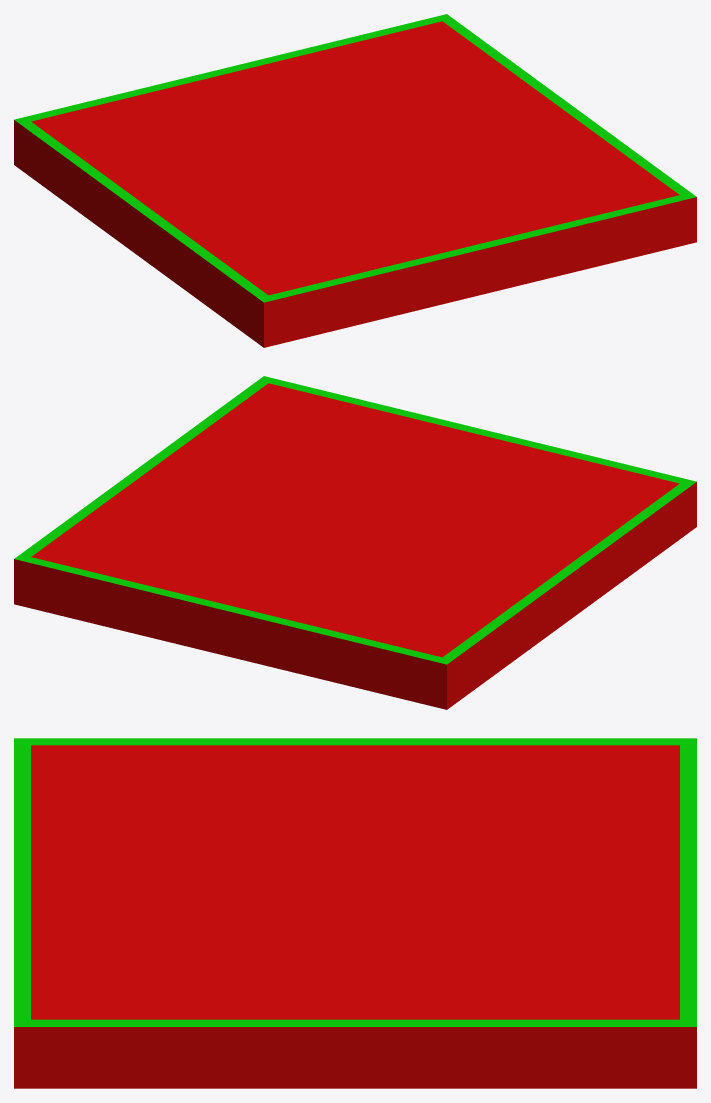
The picture shows the model from 3 angles, top to bottom: view 1: azimuth 30°, elevation 25°; view 2: azimuth 150°, elevation 25°; view 3: azimuth 270°, elevation 25°; orthographic projection. The views are drawn at different scales.
Parts seen in each view (by area): view 1: Grid; view 2: Grid; view 3: Grid.
Part boxes in pixels (<box>): Grid: <box>14,14,696,347</box>; Grid: <box>14,376,696,709</box>; Grid: <box>14,738,696,1088</box>.
Bounding box in the file's own units: 100 × 10 × 100.
